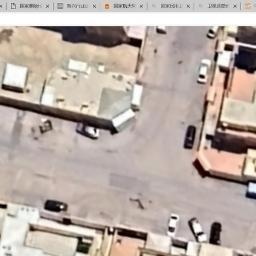sedan: (198, 58, 212, 84), (43, 199, 68, 213), (166, 213, 180, 237), (210, 222, 222, 246)
truck: (188, 217, 208, 243)
unknown: (76, 122, 100, 138), (245, 182, 256, 198), (206, 26, 218, 37)
van: (184, 124, 197, 149)
